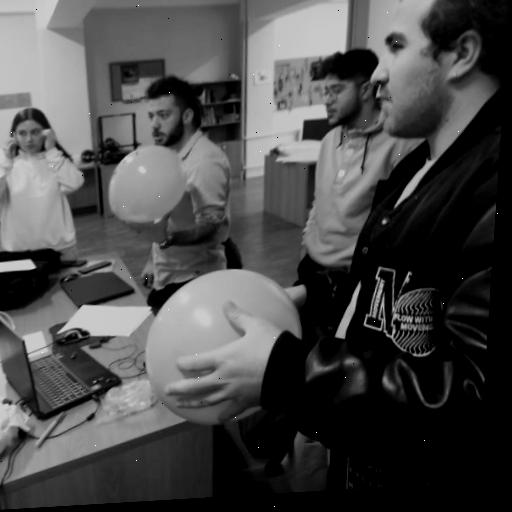balloon: (140, 264, 310, 428), (108, 141, 190, 224)
